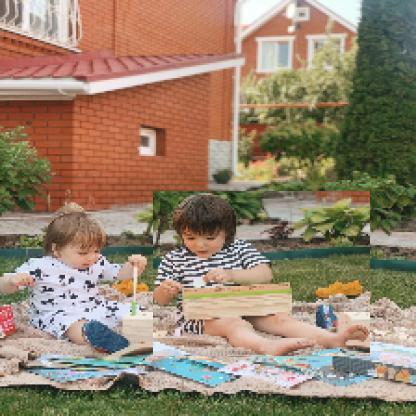child: (154, 192, 372, 358), (1, 204, 148, 355)
